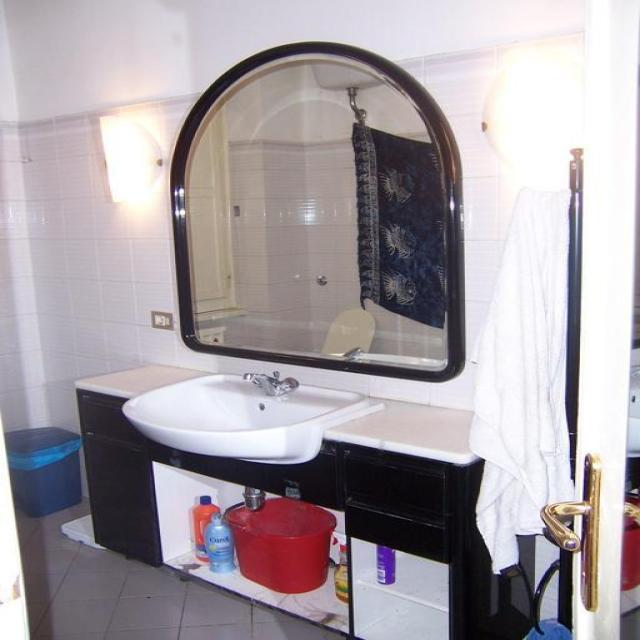cupboard: (72, 364, 532, 638)
faucet: (241, 371, 299, 396)
pots: (222, 495, 338, 594)
window: (168, 39, 466, 382)
